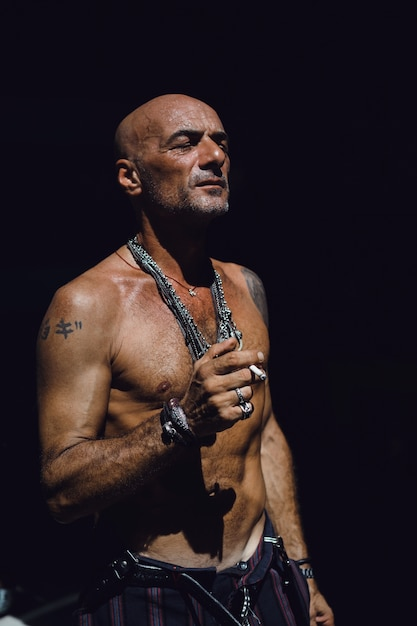cigarette: (246, 363, 269, 382)
